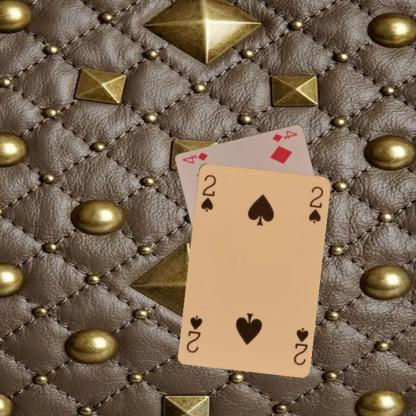2s: (290, 325, 310, 366), (198, 172, 217, 212)
4d: (270, 128, 299, 142)
